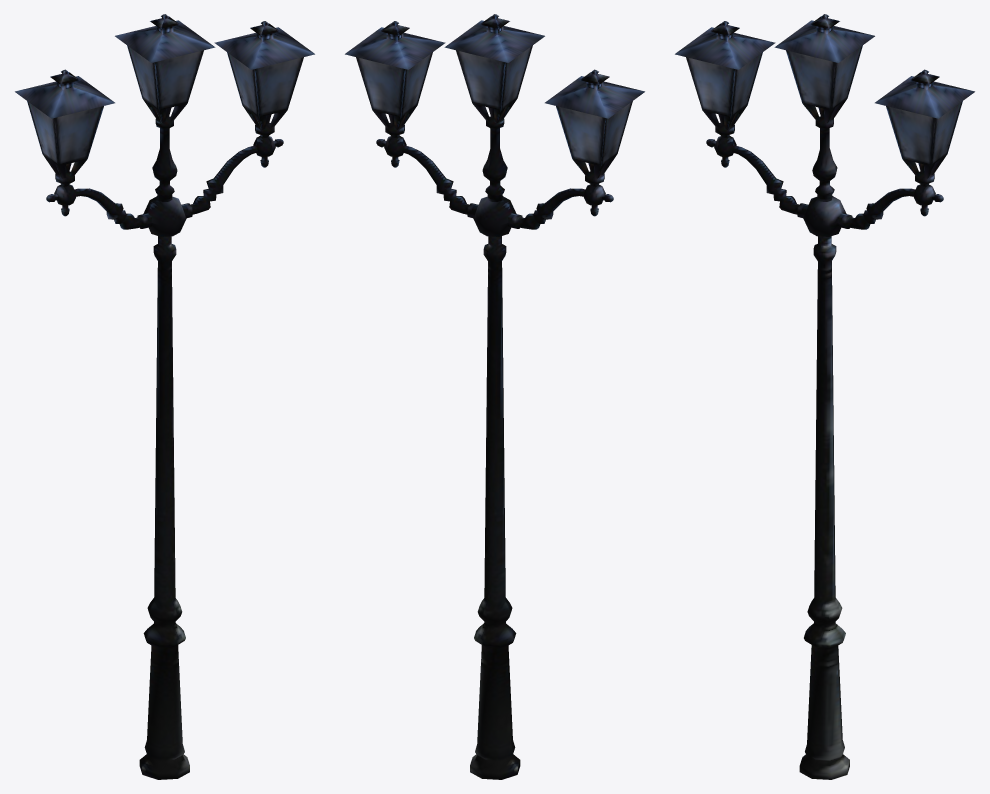
Rendered from StreetLampSmall.fbx.
3 views of the same model, side by side, from view 1: azimuth 30°, elevation 25°; view 2: azimuth 150°, elevation 25°; view 3: azimuth 330°, elevation 25° (orthographic).
Parts seen in each view (by area): view 1: small; view 2: small; view 3: small.
Part boxes in pixels (box(x1,y1,x2,y2)): small: box(15, 14, 314, 779); small: box(345, 14, 644, 779); small: box(675, 14, 974, 779).
Bounding box in the file's own units: 171 × 467 × 41.6.
